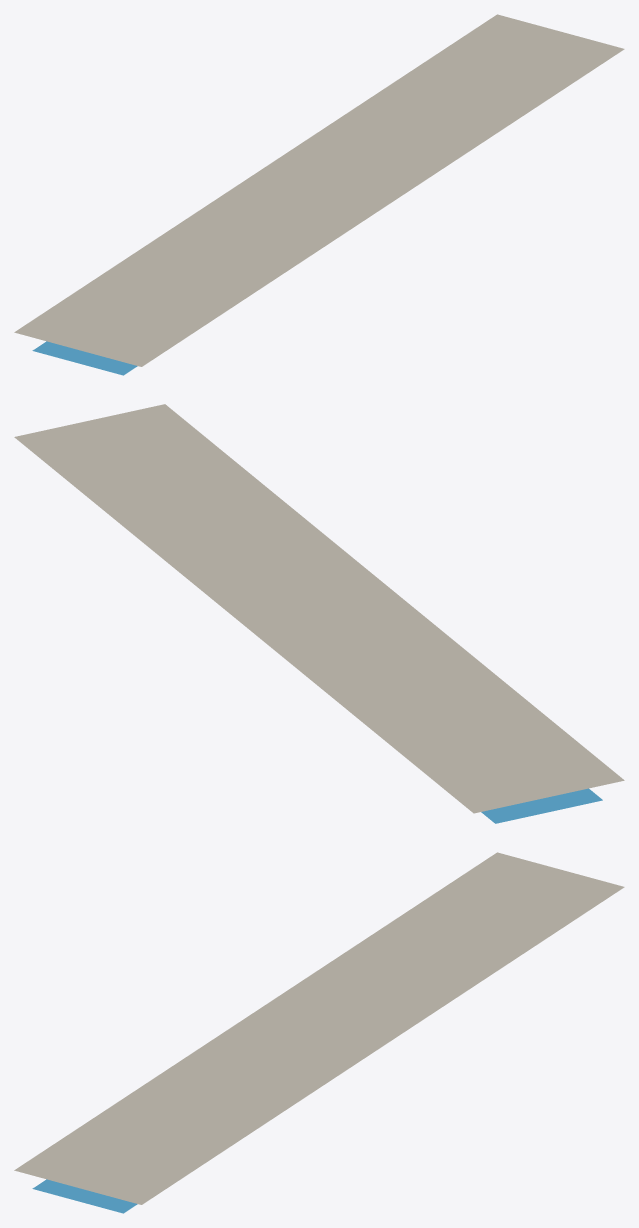
The picture shows the model from 3 angles, top to bottom: view 1: azimuth 90°, elevation 25°; view 2: azimuth 150°, elevation 25°; view 3: azimuth 270°, elevation 25°; orthographic projection. The views are drawn at different scales.
Parts seen in each view (by area): view 1: estructura_terreno, estructura_agua; view 2: estructura_terreno, estructura_agua; view 3: estructura_terreno, estructura_agua.
Part boxes in pixels (<box>): estructura_terreno: <box>14,14,624,366</box>; estructura_agua: <box>32,341,137,375</box>; estructura_terreno: <box>14,404,624,813</box>; estructura_agua: <box>481,788,602,823</box>; estructura_terreno: <box>14,852,624,1204</box>; estructura_agua: <box>32,1179,137,1213</box>.
Bounding box in the file's own units: 23.1 × 0.41 × 16.91.
